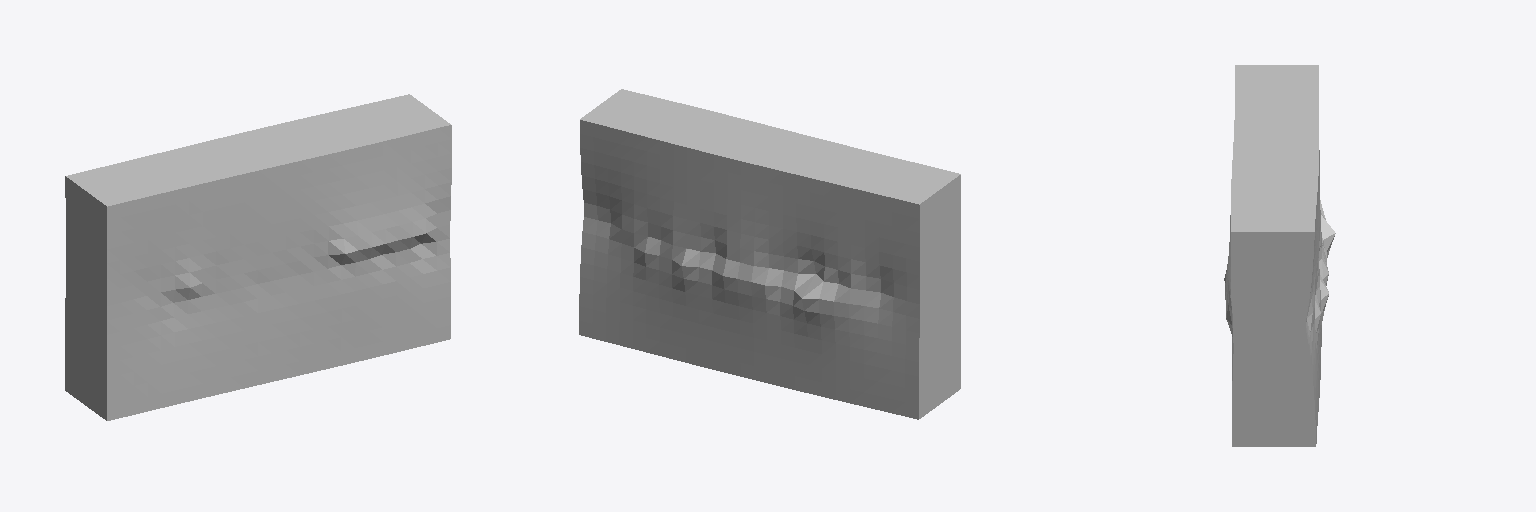
File: aaa.obj
3 renders of one model, left to right at view 1: azimuth 30°, elevation 25°; view 2: azimuth 150°, elevation 25°; view 3: azimuth 270°, elevation 25°, orthographic.
Parts seen in each view (by area): view 1: The0thSurface, The1thSurface, The5thSurface, The3thSurface, The2thSurface, The4thSurface, The6thSurface; view 2: The6thSurface, The0thSurface, The1thSurface, The5thSurface, The3thSurface, The2thSurface, The4thSurface; view 3: The1thSurface, The5thSurface, The0thSurface, The4thSurface, The6thSurface, The3thSurface, The2thSurface.
Part boxes in pixels (left/top/right/bottom): The0thSurface: left=97, top=119, right=451, bottom=420; The1thSurface: left=90, top=112, right=442, bottom=413; The5thSurface: left=69, top=95, right=417, bottom=398; The3thSurface: left=80, top=105, right=428, bottom=404; The2thSurface: left=85, top=109, right=432, bottom=408; The4thSurface: left=77, top=101, right=423, bottom=400; The6thSurface: left=65, top=94, right=409, bottom=392; The6thSurface: left=579, top=119, right=925, bottom=419; The0thSurface: left=614, top=89, right=960, bottom=394; The1thSurface: left=604, top=95, right=951, bottom=400; The5thSurface: left=581, top=113, right=931, bottom=416; The3thSurface: left=596, top=105, right=939, bottom=408; The2thSurface: left=600, top=102, right=943, bottom=404; The4thSurface: left=589, top=108, right=933, bottom=410; The1thSurface: left=1244, top=65, right=1269, bottom=446; The5thSurface: left=1288, top=65, right=1316, bottom=446; The0thSurface: left=1224, top=65, right=1254, bottom=446; The4thSurface: left=1277, top=65, right=1298, bottom=446; The6thSurface: left=1306, top=65, right=1335, bottom=446; The3thSurface: left=1268, top=65, right=1288, bottom=446; The2thSurface: left=1265, top=65, right=1279, bottom=446.
Size of the model in its own units: 500 by 300 by 141.